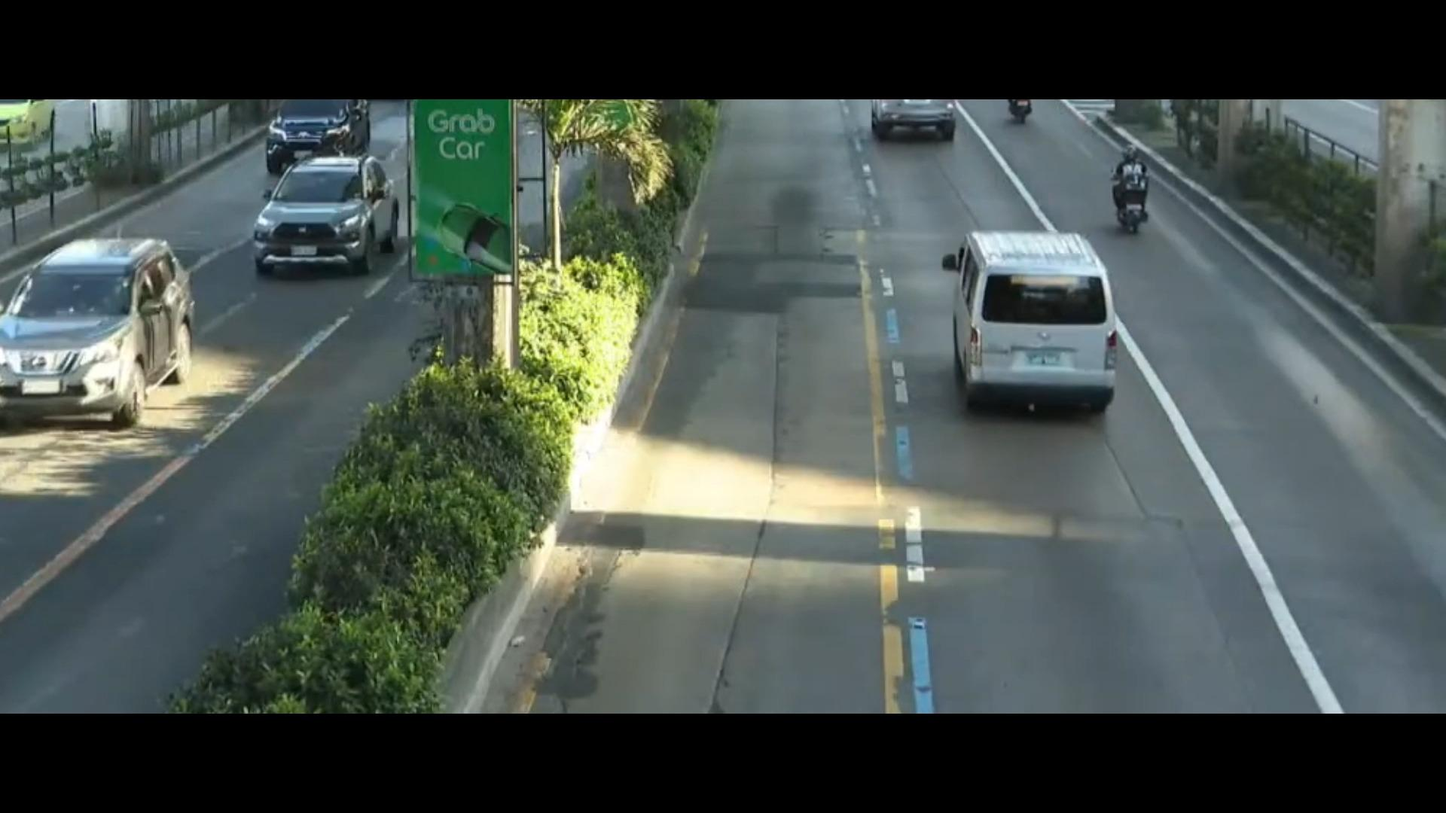Motorcycle: (1072, 128, 1185, 254)
SUV: (0, 226, 201, 444), (244, 139, 387, 298), (262, 101, 382, 171)
Van: (923, 219, 1133, 436)
